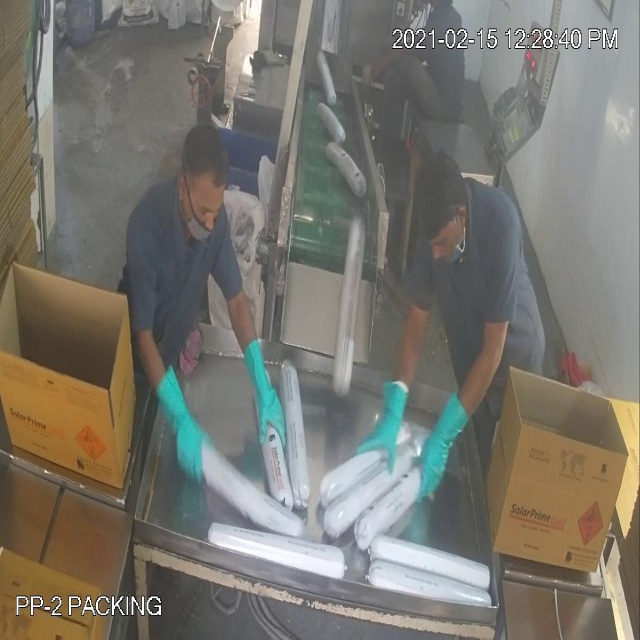Guantes: (155, 358, 219, 492), (239, 321, 294, 470), (413, 376, 474, 510), (352, 353, 410, 482)
